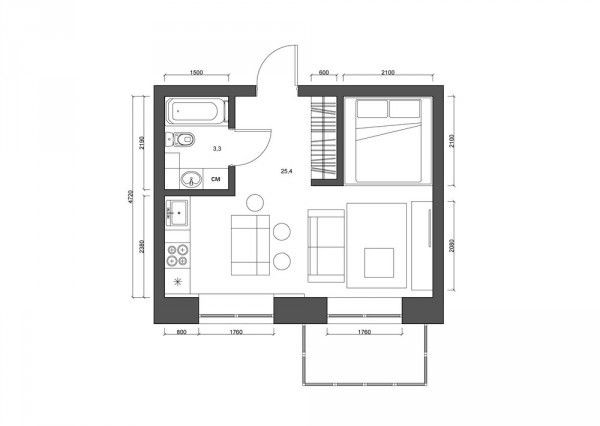door: (256, 38, 302, 90), (234, 122, 276, 167)
room: (165, 194, 444, 311), (154, 84, 344, 190), (349, 93, 449, 185)
wall: (151, 82, 171, 297), (430, 77, 447, 326), (296, 82, 444, 102), (272, 295, 330, 327), (152, 82, 258, 99), (398, 294, 446, 327), (151, 296, 202, 325), (336, 93, 349, 187), (164, 184, 236, 198), (224, 167, 241, 197), (308, 177, 338, 191), (226, 96, 239, 127)
window: (330, 311, 402, 320), (202, 313, 274, 320)
